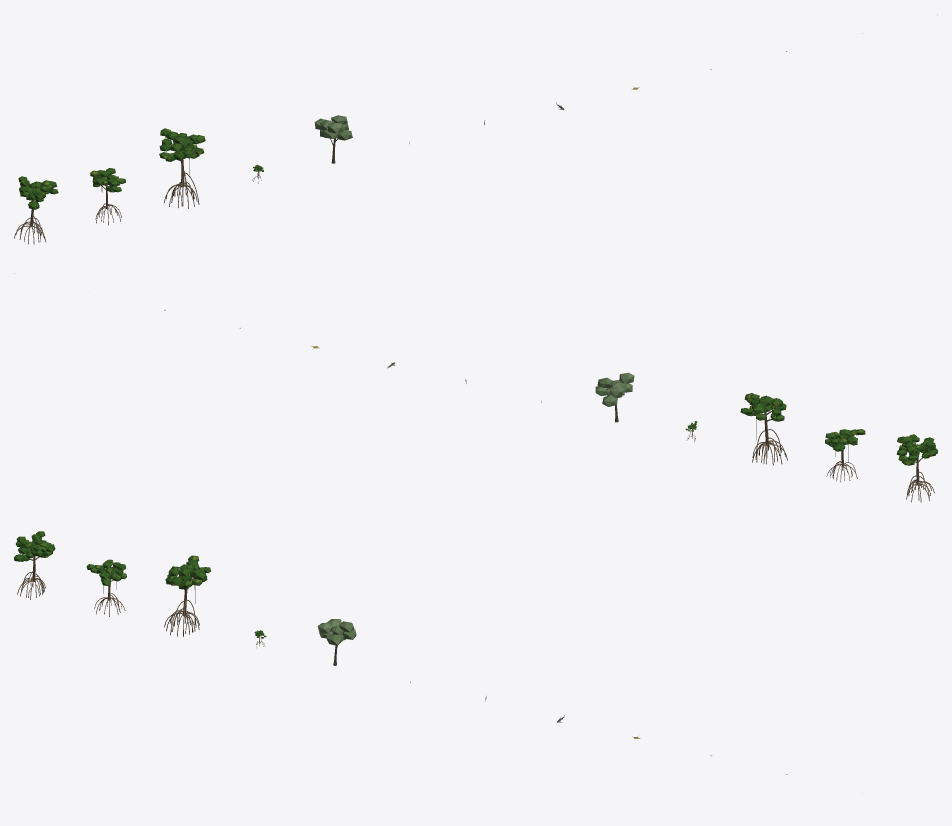
File: lagoon.glb
3 renders of one model, top to bottom at view 1: azimuth 30°, elevation 25°; view 2: azimuth 150°, elevation 25°; view 3: azimuth 330°, elevation 25°, orthographic.
Parts seen in each view (by area): view 1: red_mangrove_2, red_mangrove_0, red_mangrove_1, black_mangrove; view 2: red_mangrove_2, red_mangrove_0, black_mangrove, red_mangrove_1; view 3: red_mangrove_2, red_mangrove_0, red_mangrove_1, black_mangrove.
Boxes of the visible parts, x1,y1,x2,y2 form: red_mangrove_2: (159,128,205,208); red_mangrove_0: (14,176,58,244); red_mangrove_1: (90,168,125,225); black_mangrove: (314,115,352,163); red_mangrove_2: (740,393,787,465); red_mangrove_0: (896,434,937,502); black_mangrove: (595,372,634,422); red_mangrove_1: (825,429,865,482); red_mangrove_2: (164,555,210,636); red_mangrove_0: (14,531,55,599); red_mangrove_1: (86,559,126,616); black_mangrove: (317,619,356,665).
Bounding box in the file's own units: 24.39 × 1.6 × 1.27.
